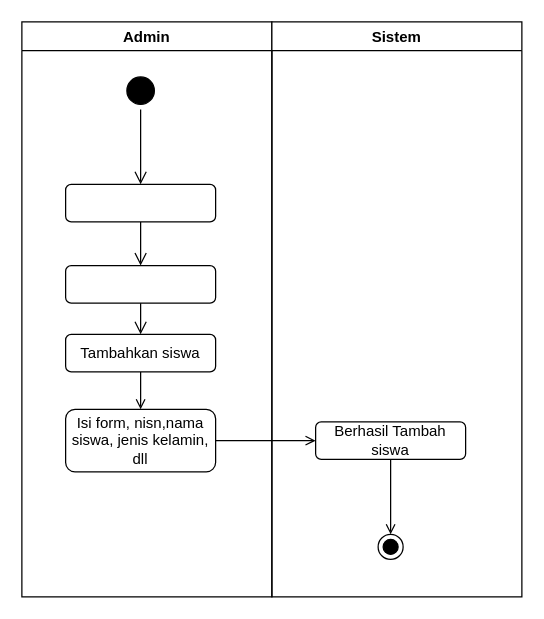
This 544x619 diagram has some shape labels left out. The box of each missing label's shape, as (x1, y1, x2, y2) in pixels:
admindashbord: (64, 183, 216, 222)
pilih menu siswa: (64, 264, 216, 303)
